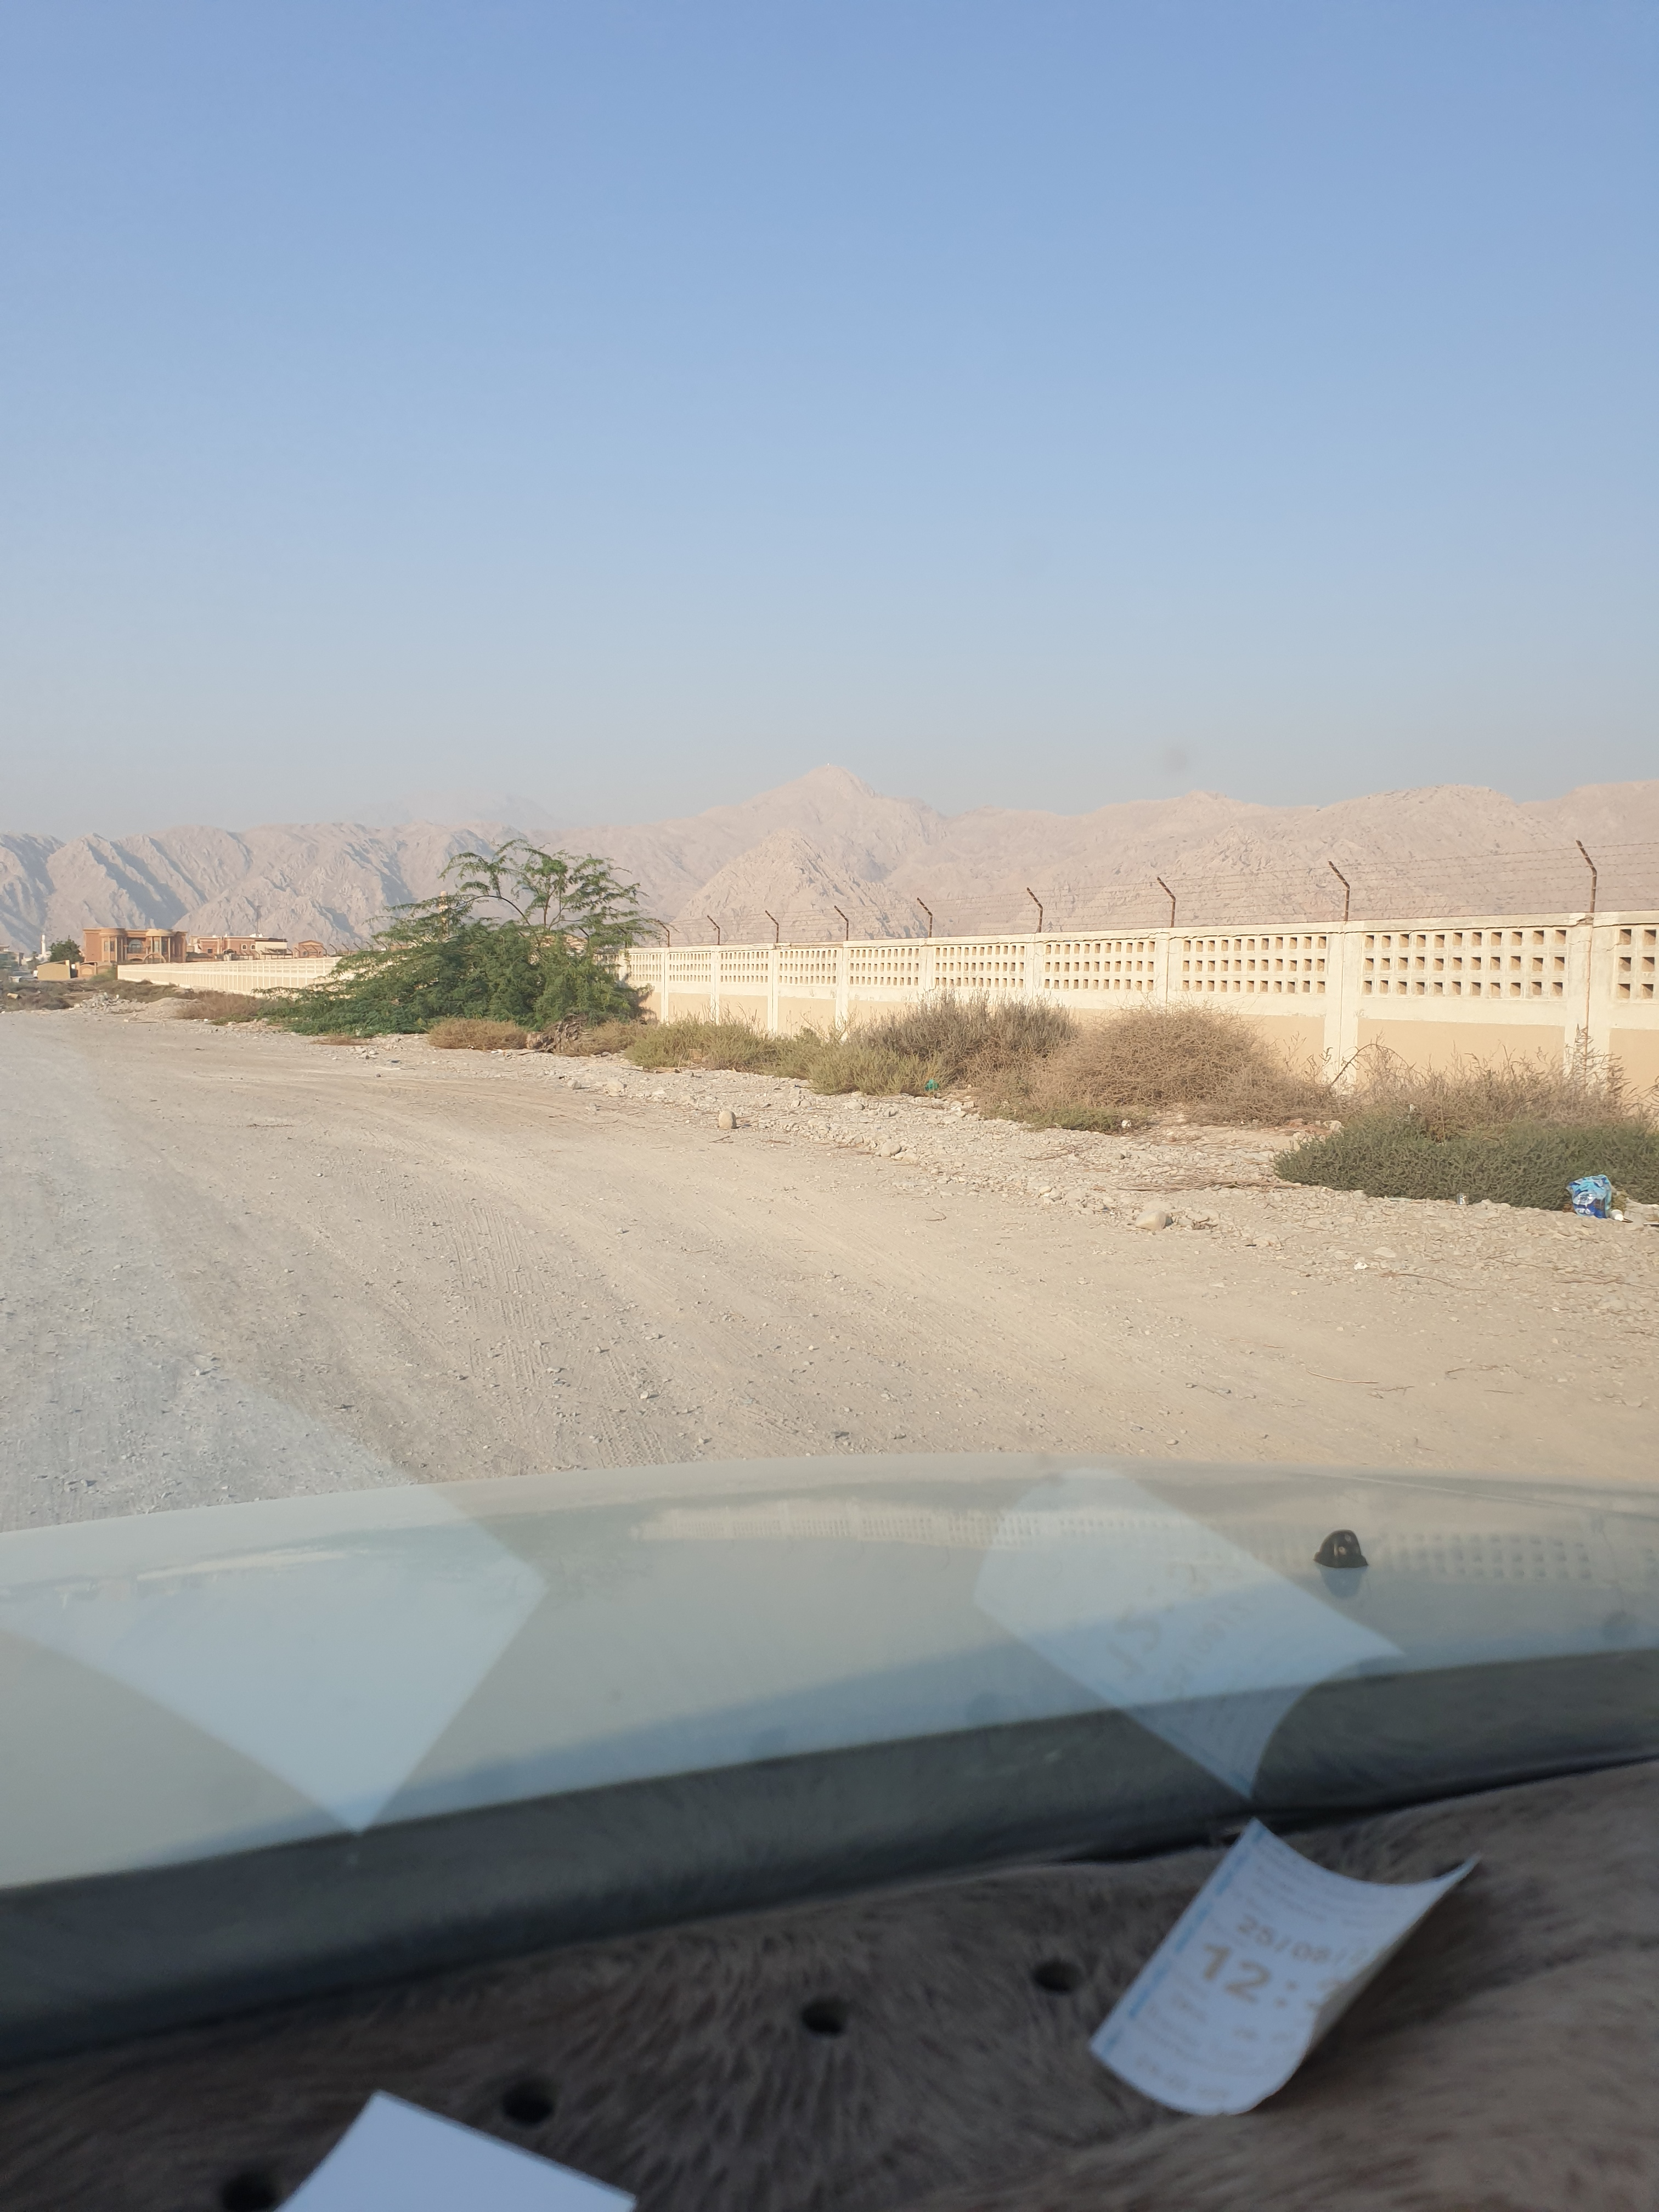fallen_trees: (1119, 1167, 1286, 1202)
